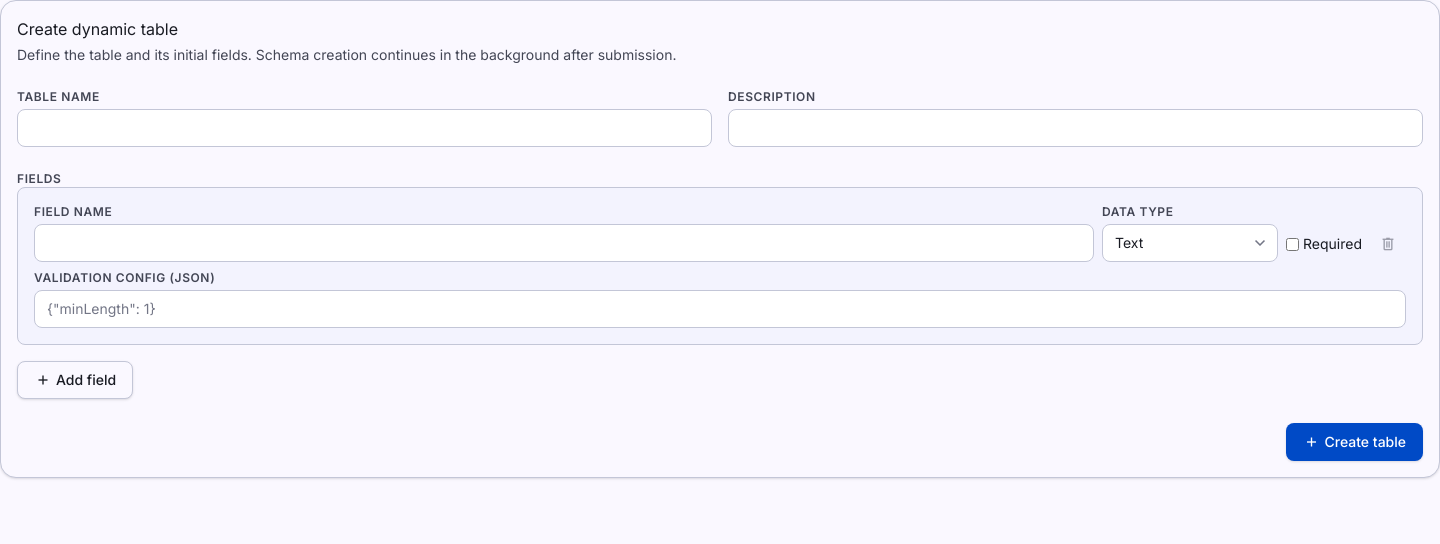
Test: TableBuilderForm › validates required metadata and JSON config before enqueuing a job
Click the button "Create table".
click(1354, 442)  # box top-left (1286, 423), bottom-right (1423, 461)
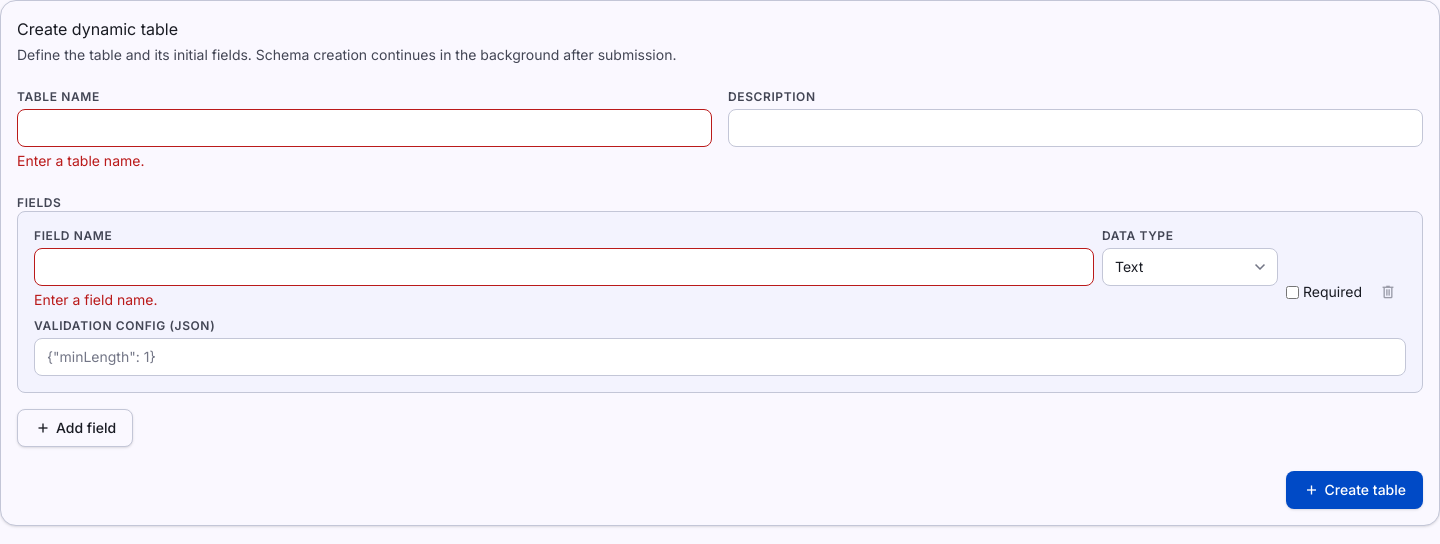
Now the text "Enter a table name." is shown, box top-left (17, 152), bottom-right (144, 169)
Now the text "Enter a field name." is shown, box top-left (34, 291), bottom-right (158, 308)
Type "Orders" into the field labelled "Table name".
click(364, 128); type("Orders")  # box top-left (17, 109), bottom-right (712, 147)
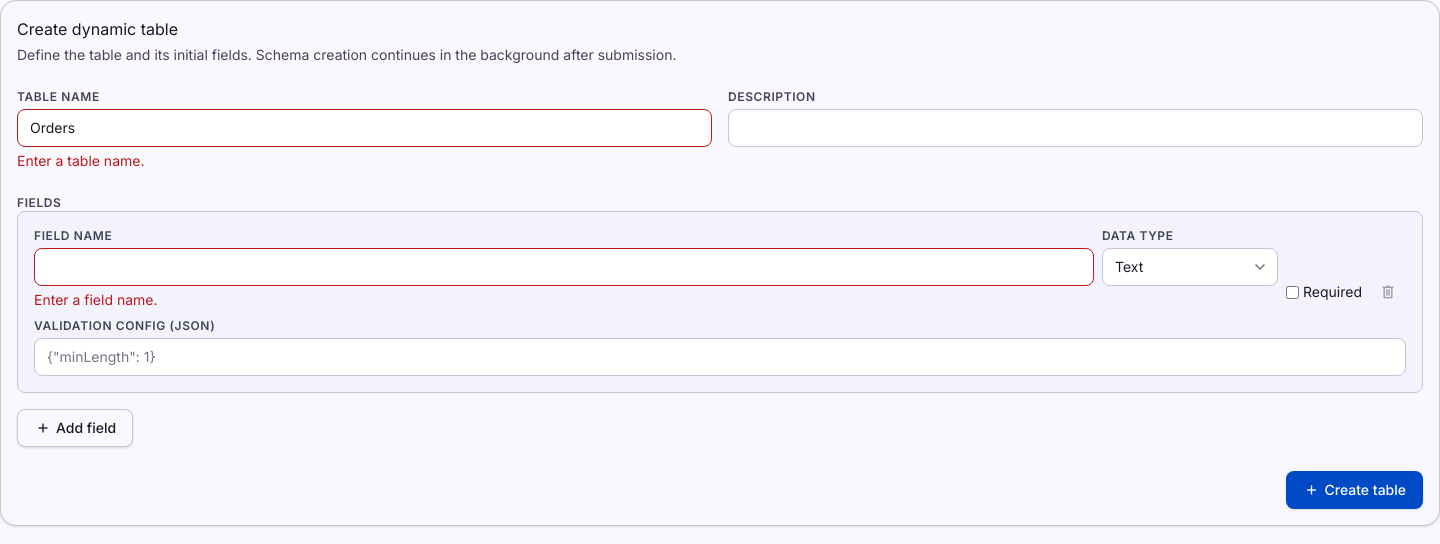
Type "status" into the field labelled "Field name".
click(564, 267); type("status")  # box top-left (34, 248), bottom-right (1094, 286)
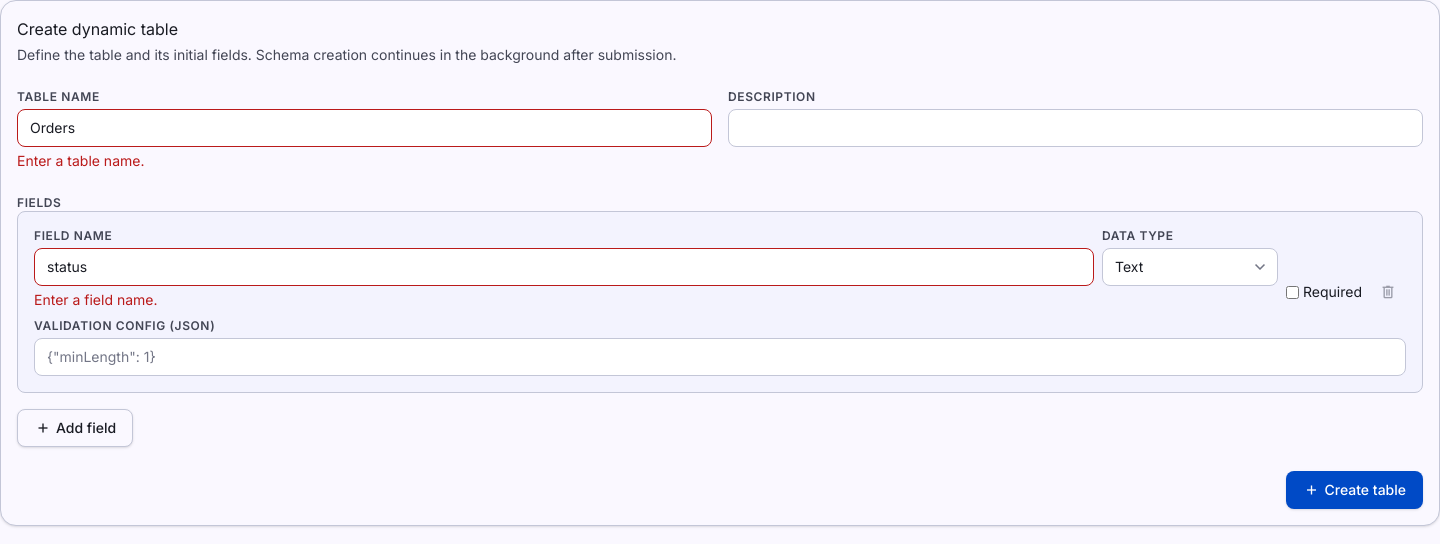
Type "not-json" into the field labelled "Validation config (JSON)".
click(720, 357); type("not-json")  # box top-left (34, 338), bottom-right (1406, 376)
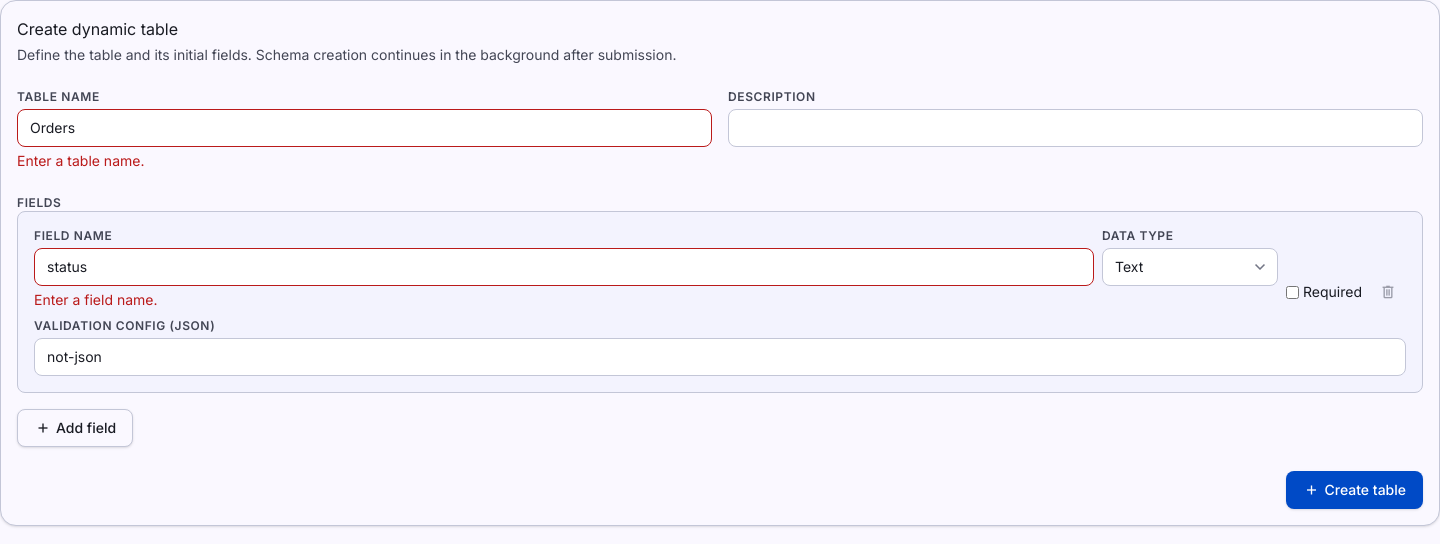
Click the button "Create table".
click(1354, 490)  # box top-left (1286, 471), bottom-right (1423, 509)
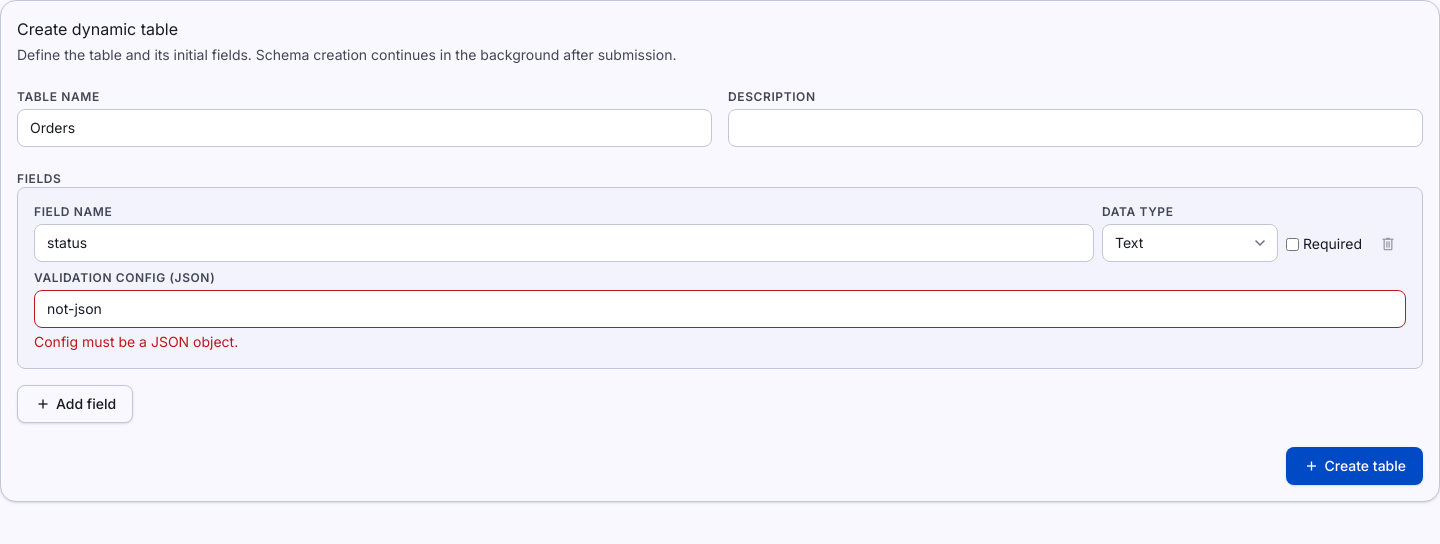
Now the text "Config must be a JSON object." is shown, box top-left (34, 333), bottom-right (238, 350)
